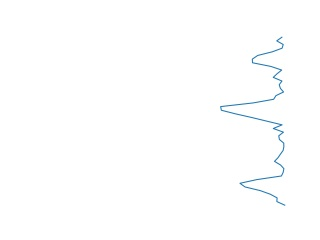underwaterNaturalLevee: (215, 36, 292, 209)
